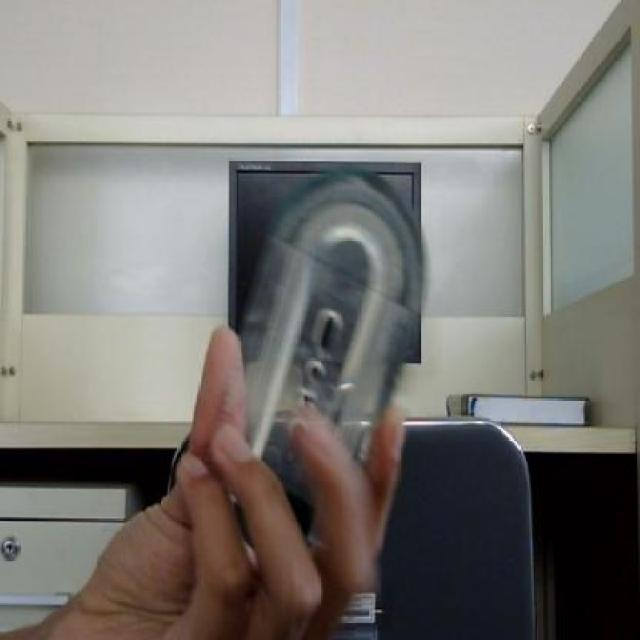Plastic: (211, 158, 434, 529)
